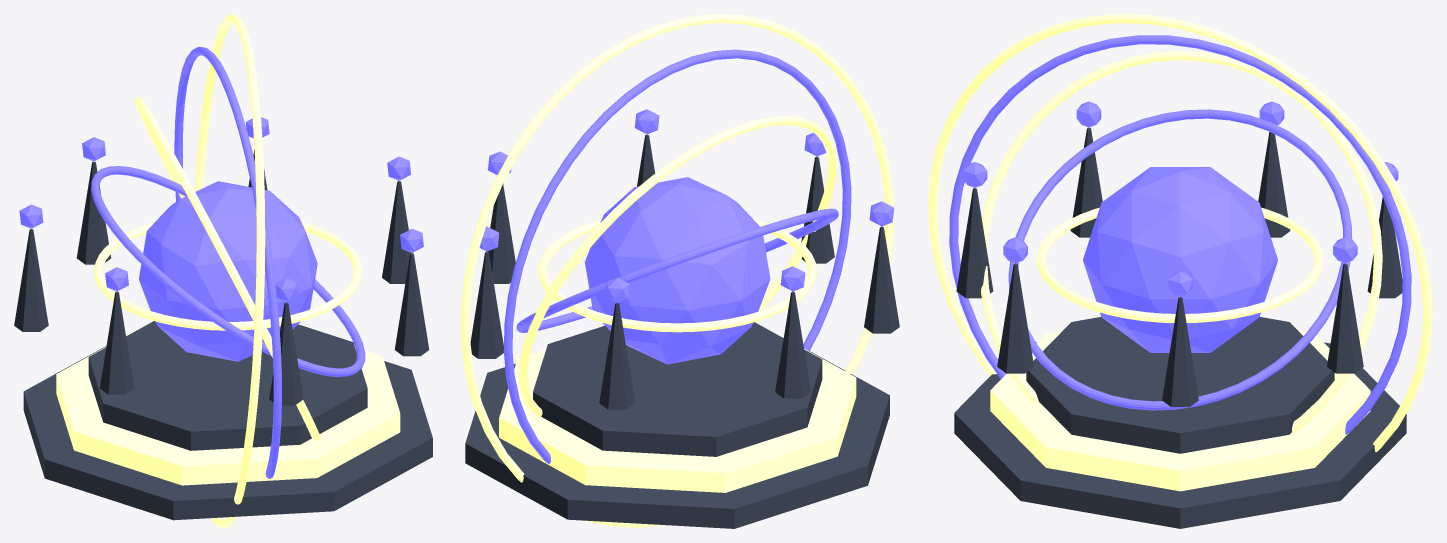
The model's file is gpu-blender-v37.glb.
3 views of the same model, side by side, from view 1: azimuth 30°, elevation 25°; view 2: azimuth 150°, elevation 25°; view 3: azimuth 270°, elevation 25° (orthographic). The views are drawn at different scales.
Visible parts, largest first — view 1: Cylinder.002, Cylinder, SovereignCore_storefront-catalog, Cylinder.001, Torus.004, Torus.003, Torus.001, Torus, Torus.002, Cone.006, Cone.004, Cone.003 (+3 smaller); view 2: Cylinder.002, SovereignCore_storefront-catalog, Cylinder, Cylinder.001, Torus.004, Torus.003, Torus.002, Torus.001, Torus, Cone.004, Cone.003, Cone.002 (+4 smaller); view 3: SovereignCore_storefront-catalog, Cylinder.002, Cylinder, Cylinder.001, Torus.004, Torus.003, Torus.002, Torus.001, Torus, Cone.001, Cone.006, Cone (+4 smaller).
Part boxes in pixels (<box>): Cylinder.002: <box>88,321,367,450</box>; Cylinder: <box>23,346,432,520</box>; SovereignCore_storefront-catalog: <box>139,181,317,361</box>; Cylinder.001: <box>56,328,400,485</box>; Torus.004: <box>195,14,265,528</box>; Torus.003: <box>174,46,281,480</box>; Torus.001: <box>91,166,365,376</box>; Torus: <box>94,222,362,330</box>; Torus.002: <box>135,97,320,440</box>; Cone.006: <box>394,253,429,356</box>; Cone.004: <box>100,291,134,394</box>; Cone.003: <box>14,229,48,331</box>; Cylinder.002: <box>533,322,822,456</box>; SovereignCore_storefront-catalog: <box>585,177,770,364</box>; Cylinder: <box>465,351,889,528</box>; Cylinder.001: <box>499,330,856,492</box>; Torus.004: <box>461,14,894,527</box>; Torus.003: <box>503,49,851,463</box>; Torus.002: <box>518,116,836,417</box>; Torus.001: <box>516,208,838,332</box>; Torus: <box>538,219,816,332</box>; Cone.004: <box>864,226,899,333</box>; Cone.003: <box>775,291,810,398</box>; Cone.002: <box>599,303,634,409</box>; SovereignCore_storefront-catalog: <box>1083,167,1277,352</box>; Cylinder.002: <box>1026,317,1334,453</box>; Cylinder: <box>954,342,1406,528</box>; Cylinder.001: <box>990,330,1370,491</box>; Torus.004: <box>928,14,1432,452</box>; Torus.003: <box>949,35,1411,434</box>; Torus.002: <box>981,50,1382,433</box>; Torus.001: <box>1008,109,1352,410</box>; Torus: <box>1037,207,1323,322</box>; Cone.001: <box>1327,263,1363,373</box>; Cone.006: <box>997,263,1033,373</box>; Cone: <box>1162,297,1198,406</box>.
Size of the model in its own units: 4.41 by 5.33 by 4.9.
